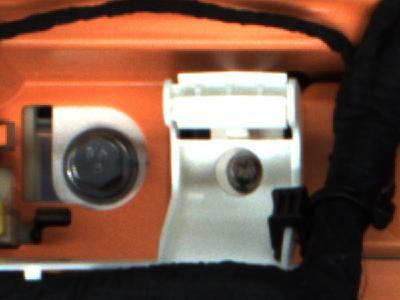nut_b: (58, 126, 144, 210)
